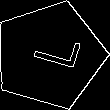L_W: (20, 33, 79, 77)
